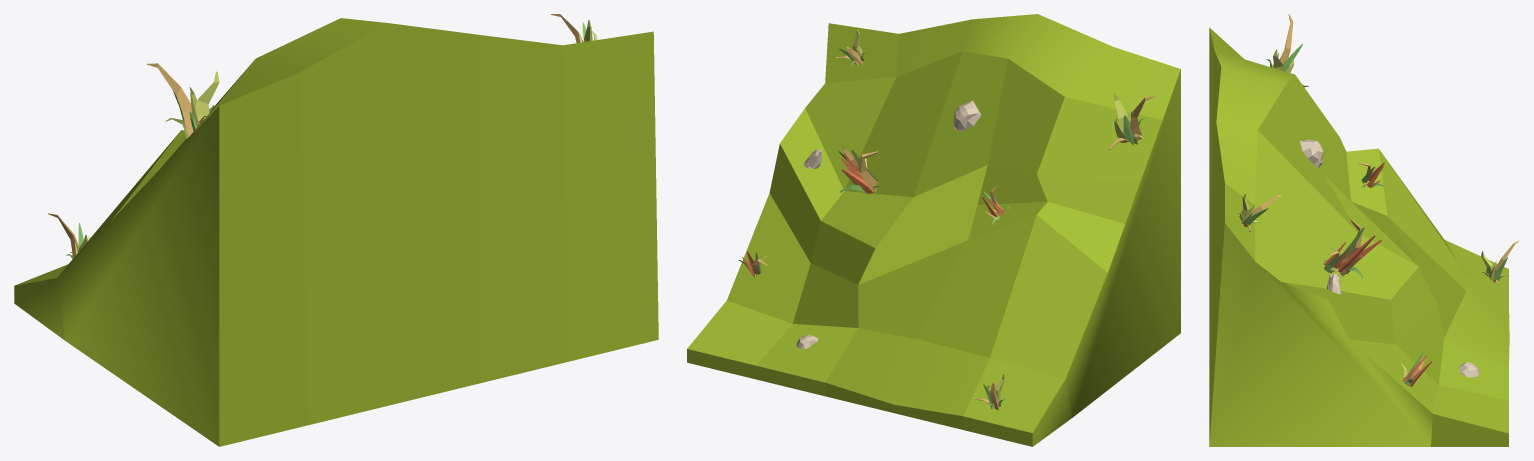
The model's file is side_v1.fbx.
3 renders of one model, left to right at view 1: azimuth 30°, elevation 25°; view 2: azimuth 150°, elevation 25°; view 3: azimuth 270°, elevation 25°, orthographic. The views are drawn at different scales.
Visible parts, largest first — view 1: zeiwand, pCylinder3_3; view 2: zeiwand, rock_1; view 3: zeiwand, rock_1.
Boxes of the visible parts, <box> form: zeiwand: <box>14,18,658,446</box>; pCylinder3_3: <box>147,63,193,136</box>; zeiwand: <box>687,14,1180,446</box>; rock_1: <box>953,100,981,131</box>; zeiwand: <box>1209,27,1509,446</box>; rock_1: <box>1300,139,1323,168</box>.
Bounding box in the file's own units: 52.01 × 40.14 × 39.84.
